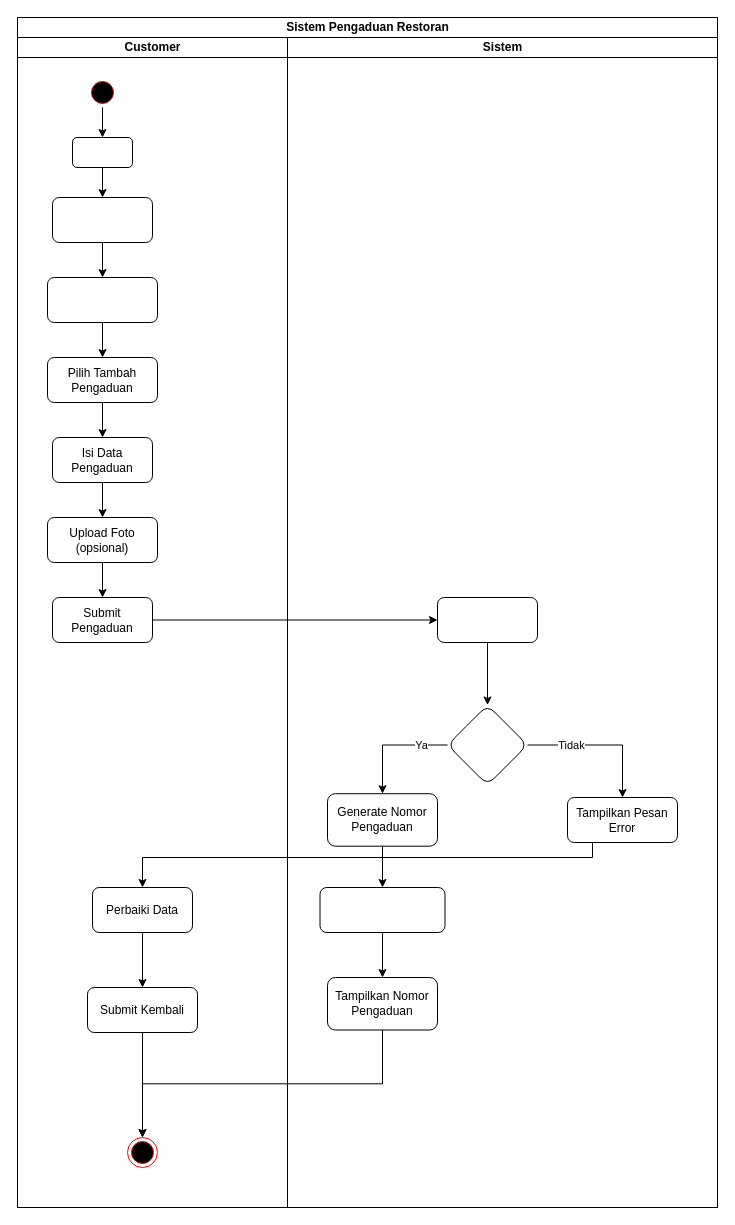
The diagram is 735 pixels wide and 1225 high, and some of its shapes have lost their labels. Here are the shapes that lost their labels. From the top down, the centre of each, then its label:
pixel 102 152: Login
pixel 102 219: Masuk Dashboard
pixel 102 299: Pilih Menu Pengaduan
pixel 487 619: Validasi Data
pixel 487 744: Data Valid?
pixel 382 909: Simpan Pengaduan ke Database
